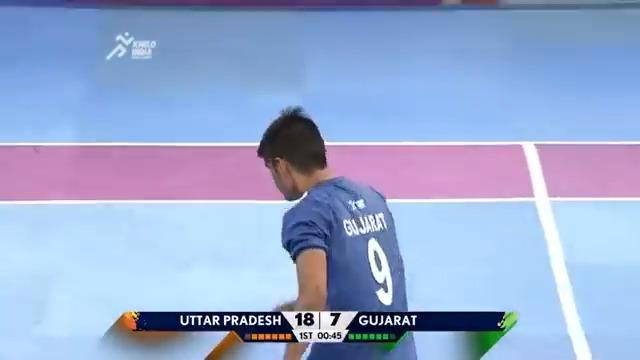Raider: (203, 104, 419, 359)
